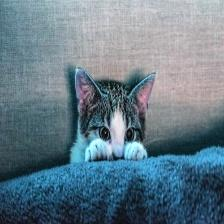kedo: (70, 66, 156, 164)
